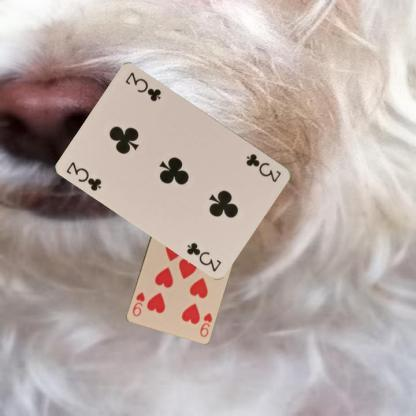3c: (64, 158, 104, 192), (243, 151, 283, 184)
9h: (197, 310, 213, 338)
